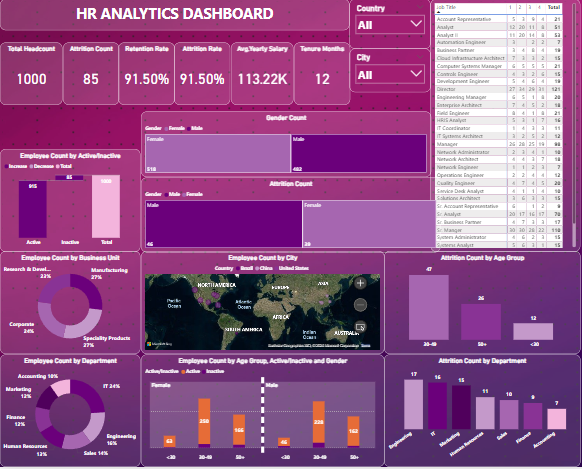

What the dashboard file says about the page in this screenshot:
{"tool":"powerbi","page":{"name":"Executive Summary","canvas":[1500,1200],"ordinal":0},"visuals":[{"type":"textbox","box":[0,0,896,80],"z":0},{"type":"donutChart","title":"Employee Count by Business Unit","fields":{"Y":["Sum(EMPData.Employee Count)"],"Category":["EMPData.BU Desc"]},"box":[0,648,360,264],"z":1000},{"type":"donutChart","title":"Employee Count by Department","fields":{"Y":["Sum(EMPData.Employee Count)"],"Category":["EMPData.Department"]},"box":[0,912,360,288],"z":2000},{"type":"columnChart","title":"Attrition Count by Age Group","fields":{"Y":["Sum(EMPData.Attrition Count)"],"Category":["EMPData.Age Group"]},"box":[984,648,504,264],"z":3000},{"type":"columnChart","title":"Attrition Count by Department","fields":{"Y":["Sum(EMPData.Attrition Count)"],"Category":["EMPData.Department"]},"box":[984,912,504,288],"z":4000},{"type":"waterfallChart","title":"Employee Count by Active/Inactive","fields":{"Y":["Sum(EMPData.Employee Count)"],"Category":["EMPData.Active/Inactive"]},"box":[0,384,360,264],"z":5000},{"type":"map","title":" Employee Count by City","fields":{"Category":["EMPData.City"],"Size":["Sum(EMPData.Employee Count)"],"Series":["EMPData.Country"]},"box":[360,648,624,264],"z":6000},{"type":"ribbonChart","title":"Employee Count by Age Group, Active/Inactive and Gender","fields":{"Category":["EMPData.Age Group"],"Y":["Sum(EMPData.Employee Count)"],"Series":["EMPData.Active/Inactive"],"Rows":["EMPData.Gender"]},"box":[360,912,624,288],"z":7000},{"type":"pivotTable","fields":{"Rows":["EMPData.Job Title"],"Columns":["EMPData.Quarter"],"Values":["Sum(EMPData.Employee Count)"]},"box":[1104,0,384,648],"z":8000},{"type":"treemap","title":"Gender Count","fields":{"Group":["EMPData.Gender"],"Values":["Sum(EMPData.Employee Count)"]},"box":[360,288,744,168],"z":9000},{"type":"treemap","title":"Attrition Count","fields":{"Group":["EMPData.Gender"],"Values":["Sum(EMPData.Attrition Count)"]},"box":[360,456,768,192],"z":10000},{"type":"slicer","fields":{"Values":["EMPData.Country"]},"box":[896,0,208,128],"z":11000},{"type":"slicer","fields":{"Values":["EMPData.City"]},"box":[896,128,208,112],"z":12000},{"type":"card","title":"Total Headcount","fields":{"Values":["Sum(EMPData.Employee Count)"]},"box":[0,112,160,160],"z":13000},{"type":"card","title":"Attrition Count","fields":{"Values":["Sum(EMPData.Attrition Count)"]},"box":[160,112,144,160],"z":14000},{"type":"card","title":"Retention Rate","fields":{"Values":["EMPData.Retention Rate"]},"box":[304,112,144,160],"z":15000},{"type":"card","title":"Attrition Rate","fields":{"Values":["EMPData.Retention Rate"]},"box":[448,112,144,160],"z":16000},{"type":"card","title":"Avg.Yearly Salary","fields":{"Values":["Avg(EMPData.Annual Salary)"]},"box":[592,112,160,160],"z":17000},{"type":"card","title":"Tenure Months","fields":{"Values":["Avg(EMPData.Tenure Months)"]},"box":[752,112,144,160],"z":18000}]}

Visuals, with their boxes in screenshot pixels (x1, y1, x2, y2), scaled from the page's 1500x1200 canvas onto the 582x469 screenshot:
textbox: {"x1": 0, "y1": 0, "x2": 348, "y2": 31}
"Employee Count by Business Unit" donutChart: {"x1": 0, "y1": 253, "x2": 140, "y2": 356}
"Employee Count by Department" donutChart: {"x1": 0, "y1": 356, "x2": 140, "y2": 468}
"Attrition Count by Age Group" columnChart: {"x1": 382, "y1": 253, "x2": 577, "y2": 356}
"Attrition Count by Department" columnChart: {"x1": 382, "y1": 356, "x2": 577, "y2": 468}
"Employee Count by Active/Inactive" waterfallChart: {"x1": 0, "y1": 150, "x2": 140, "y2": 253}
" Employee Count by City" map: {"x1": 140, "y1": 253, "x2": 382, "y2": 356}
"Employee Count by Age Group, Active/Inactive and Gender" ribbonChart: {"x1": 140, "y1": 356, "x2": 382, "y2": 468}
pivotTable - EMPData.Job Title x EMPData.Quarter: {"x1": 428, "y1": 0, "x2": 577, "y2": 253}
"Gender Count" treemap: {"x1": 140, "y1": 113, "x2": 428, "y2": 178}
"Attrition Count" treemap: {"x1": 140, "y1": 178, "x2": 438, "y2": 253}
slicer - EMPData.Country: {"x1": 348, "y1": 0, "x2": 428, "y2": 50}
slicer - EMPData.City: {"x1": 348, "y1": 50, "x2": 428, "y2": 94}
"Total Headcount" card: {"x1": 0, "y1": 44, "x2": 62, "y2": 106}
"Attrition Count" card: {"x1": 62, "y1": 44, "x2": 118, "y2": 106}
"Retention Rate" card: {"x1": 118, "y1": 44, "x2": 174, "y2": 106}
"Attrition Rate" card: {"x1": 174, "y1": 44, "x2": 230, "y2": 106}
"Avg.Yearly Salary" card: {"x1": 230, "y1": 44, "x2": 292, "y2": 106}
"Tenure Months" card: {"x1": 292, "y1": 44, "x2": 348, "y2": 106}
